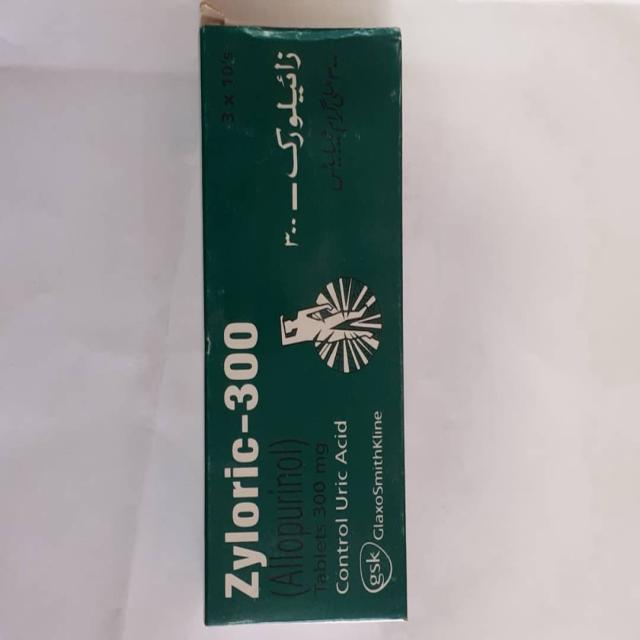drug-name: (208, 316, 268, 606)
